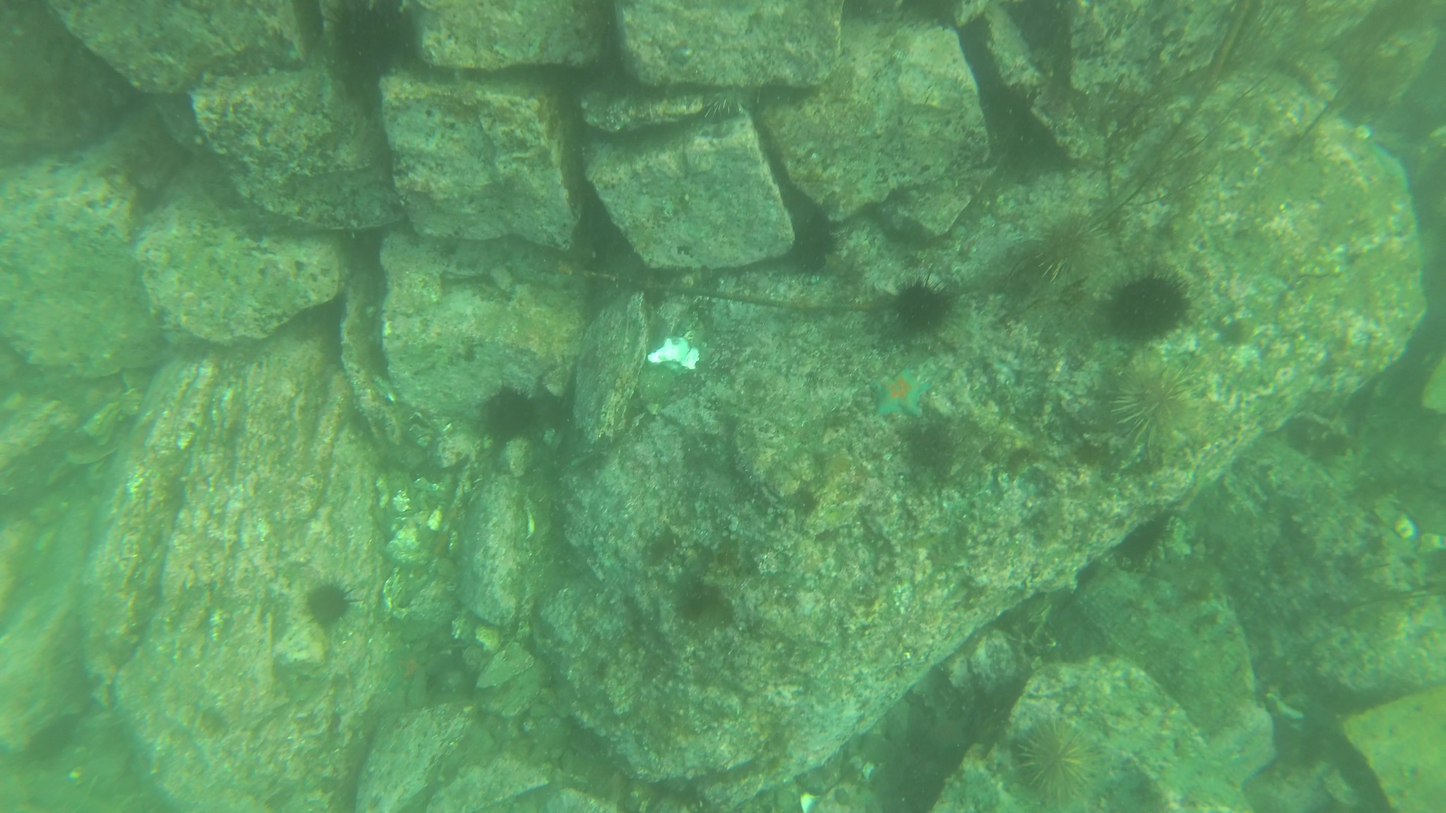holothurian: (868, 359, 932, 423), (380, 634, 433, 692), (920, 706, 973, 761)
scallop: (643, 332, 702, 378)
starfish: (1109, 352, 1218, 464), (1009, 709, 1110, 813), (1026, 196, 1122, 282), (316, 0, 400, 92), (1107, 259, 1197, 343), (889, 273, 961, 347), (480, 377, 542, 448), (303, 569, 362, 631)
